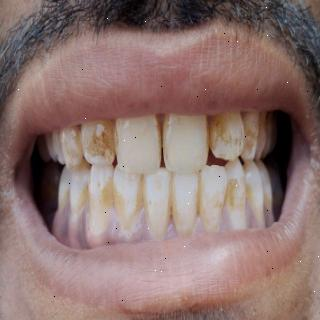LL1BC_decay: (243, 161, 265, 229)
LL2BC_decay: (258, 162, 273, 212)
LLCI_decay: (171, 171, 199, 232)
LLC_decay: (198, 164, 226, 231), (224, 160, 248, 230)
LR1BC_decay: (69, 167, 88, 215)
LR2BC_decay: (57, 165, 71, 209)
LRCI_decay: (142, 169, 173, 238)
LRC_decay: (87, 165, 111, 231)
LRLI_decay: (112, 165, 145, 231)
UL1BC_decay: (258, 117, 266, 158)
ULCI_healthy: (162, 113, 210, 171)
ULC_decay: (242, 111, 258, 161)
ULLI_decay: (210, 109, 244, 160)
URCI_healthy: (113, 114, 163, 174)
URC_decay: (59, 125, 85, 167)
URLI_decay: (80, 120, 116, 166)
